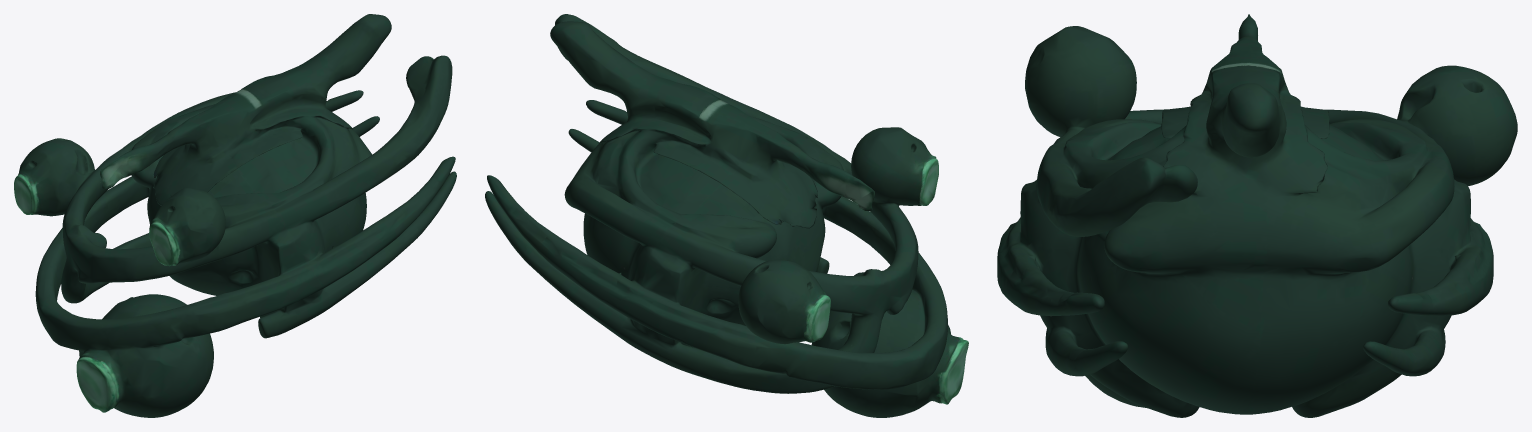
Rendered from enemy_knoton.glb.
3 views of the same model, side by side, from view 1: azimuth 30°, elevation 25°; view 2: azimuth 150°, elevation 25°; view 3: azimuth 270°, elevation 25° (orthographic). The views are drawn at different scales.
Visible parts, largest first — view 1: tripo_node_a73ea8f9-a6f9-45f5-94f1-2bb932028c6f; view 2: tripo_node_a73ea8f9-a6f9-45f5-94f1-2bb932028c6f; view 3: tripo_node_a73ea8f9-a6f9-45f5-94f1-2bb932028c6f.
Boxes of the visible parts, x1,y1,x2,y2 form: tripo_node_a73ea8f9-a6f9-45f5-94f1-2bb932028c6f: (14,14,456,417); tripo_node_a73ea8f9-a6f9-45f5-94f1-2bb932028c6f: (485,14,968,417); tripo_node_a73ea8f9-a6f9-45f5-94f1-2bb932028c6f: (997,14,1517,417).
Size of the model in its own units: 0.9799 by 0.7898 by 0.7347.
Materials: 1 (1 with a texture image).
